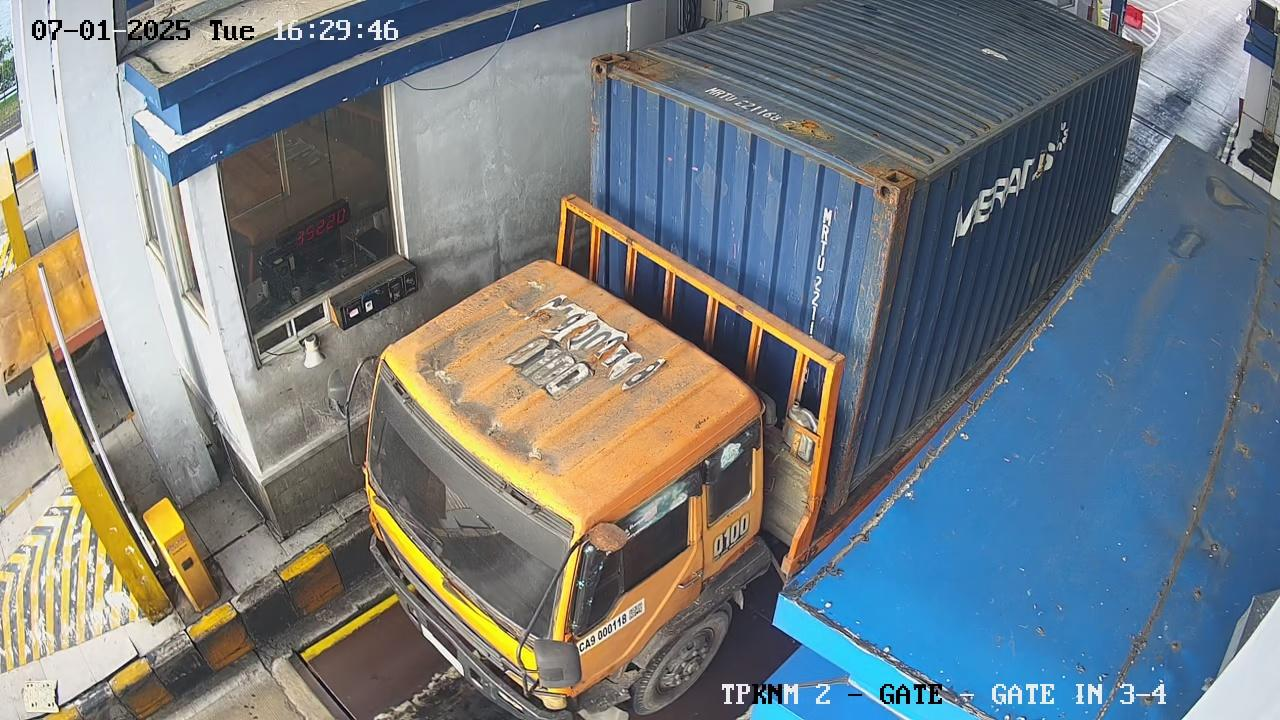Container_ID: (688, 66, 814, 149)
Container_ID_Vertikal: (781, 192, 855, 350)
truck_id: (557, 596, 646, 668)
